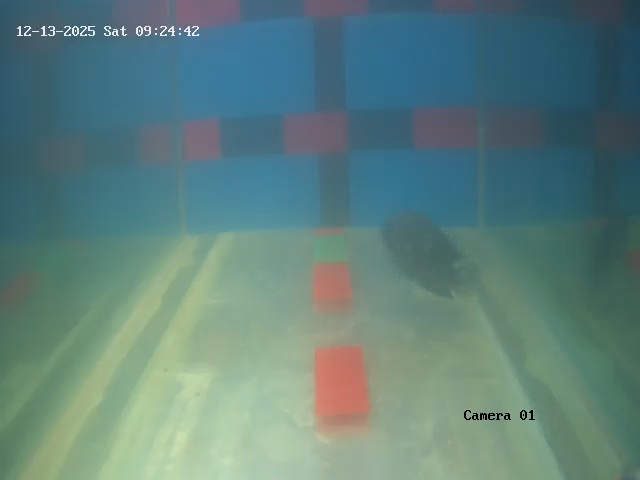fish: (383, 213, 467, 296)
